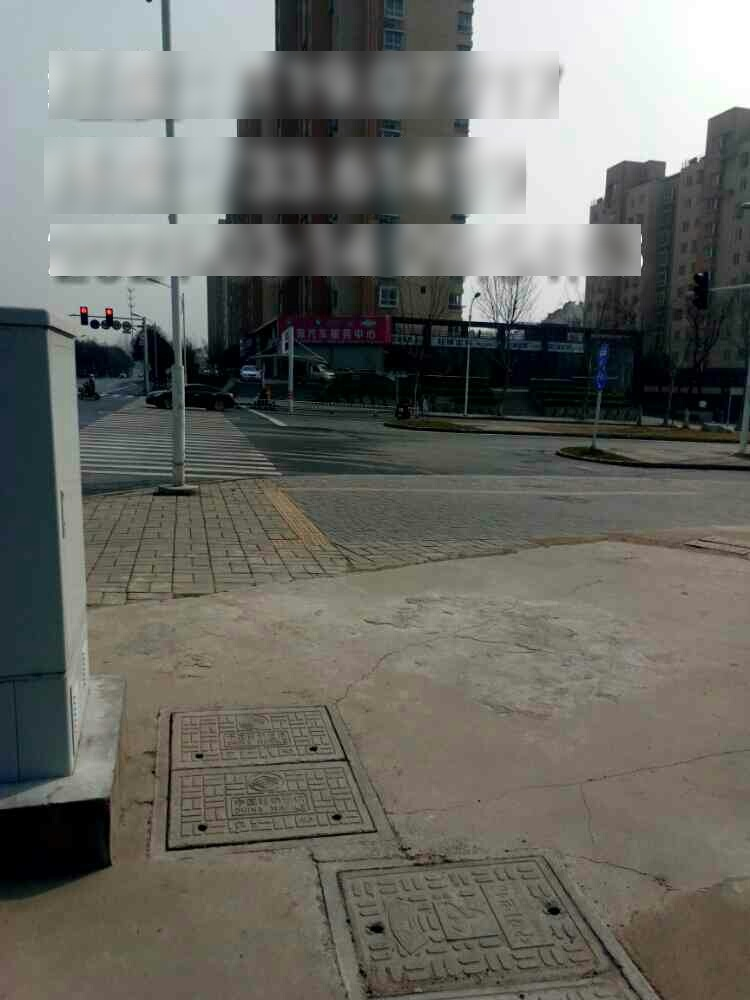well: (318, 851, 689, 999), (151, 703, 392, 858)
